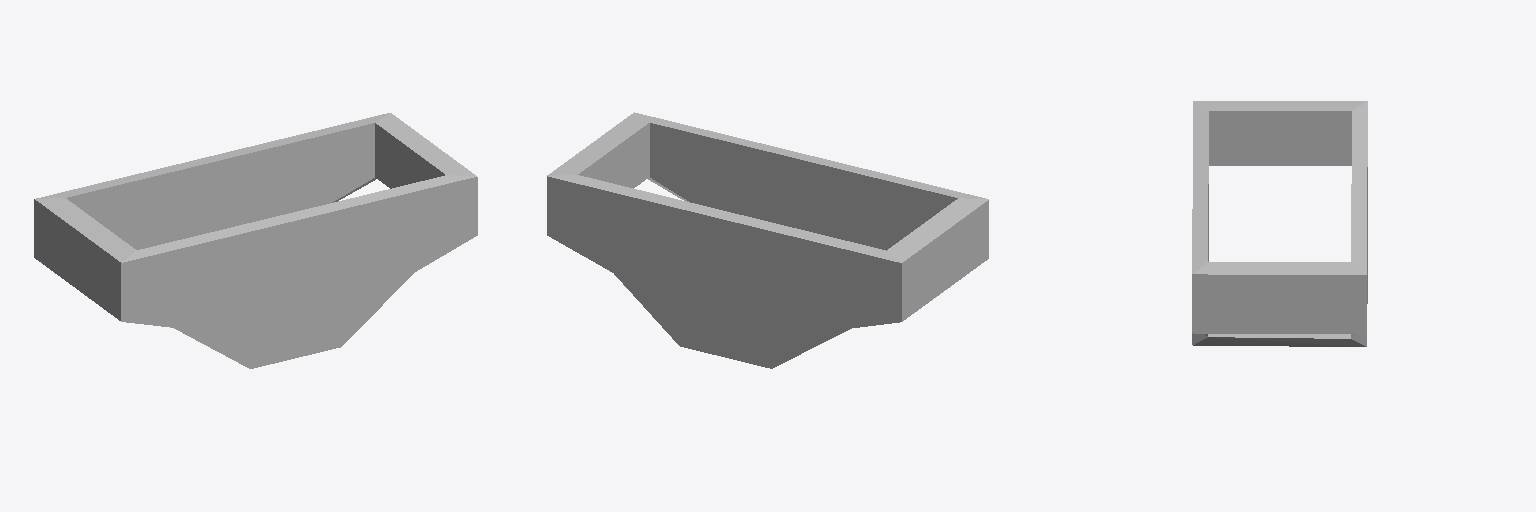
The model's file is underwear_health.obj.
3 views of the same model, side by side, from view 1: azimuth 30°, elevation 25°; view 2: azimuth 150°, elevation 25°; view 3: azimuth 270°, elevation 25° (orthographic).
Visible parts, largest first — view 1: Object_1; view 2: Object_1; view 3: Object_1.
Part boxes in pixels (x1,y1,x2,y2): Object_1: (34,113,477,368); Object_1: (547,112,988,368); Object_1: (1192,101,1367,346).
Size of the model in its own units: 1.48 by 0.5529 by 0.634.